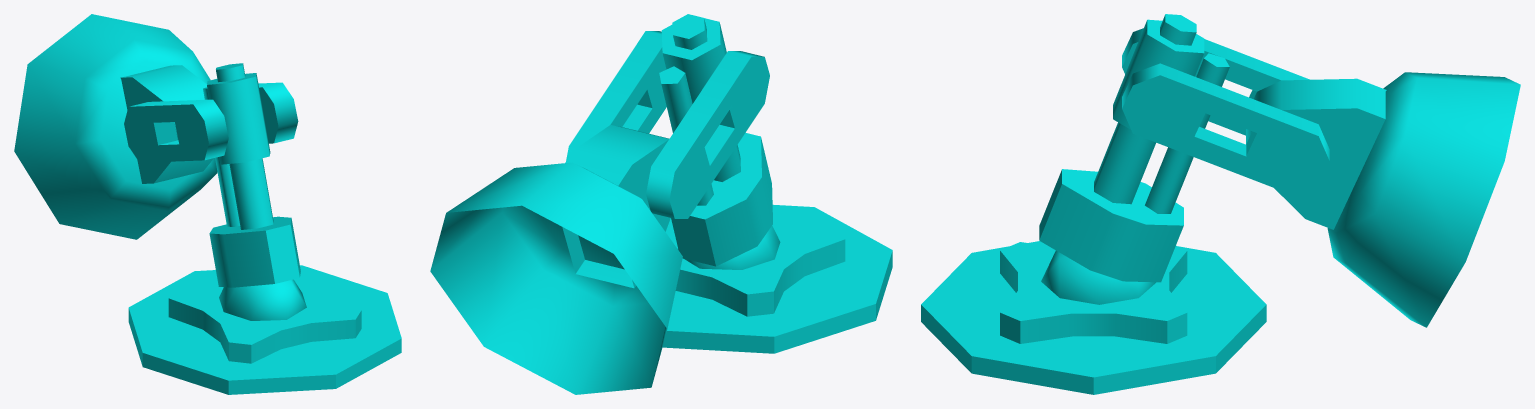
Rendered from build_prop_Strut_07.fbx.
The picture shows the model from 3 angles, left to right: view 1: azimuth 30°, elevation 25°; view 2: azimuth 150°, elevation 25°; view 3: azimuth 270°, elevation 25°; orthographic projection. The views are drawn at different scales.
Parts seen in each view (by area): view 1: build_prop_Strut_07; view 2: build_prop_Strut_07; view 3: build_prop_Strut_07.
Part boxes in pixels (x1,y1,x2,y2): build_prop_Strut_07: (14, 14, 401, 394); build_prop_Strut_07: (430, 14, 892, 394); build_prop_Strut_07: (921, 14, 1520, 394).
Bounding box in the file's own units: 53.92 × 52.35 × 93.63.
